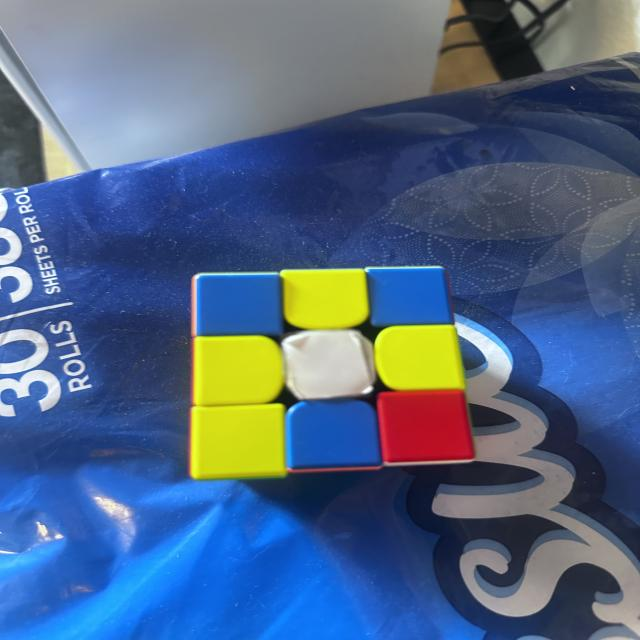sticker: (375, 388, 474, 471), (189, 404, 289, 481), (285, 398, 382, 474), (279, 329, 380, 401), (192, 335, 288, 408), (374, 325, 465, 394), (191, 273, 284, 339), (279, 269, 371, 331), (364, 266, 453, 330)
